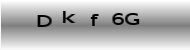6: (111, 11, 123, 25)
D: (36, 14, 53, 28)
G: (124, 12, 139, 26)
f: (89, 13, 100, 27)
k: (60, 10, 76, 25)
